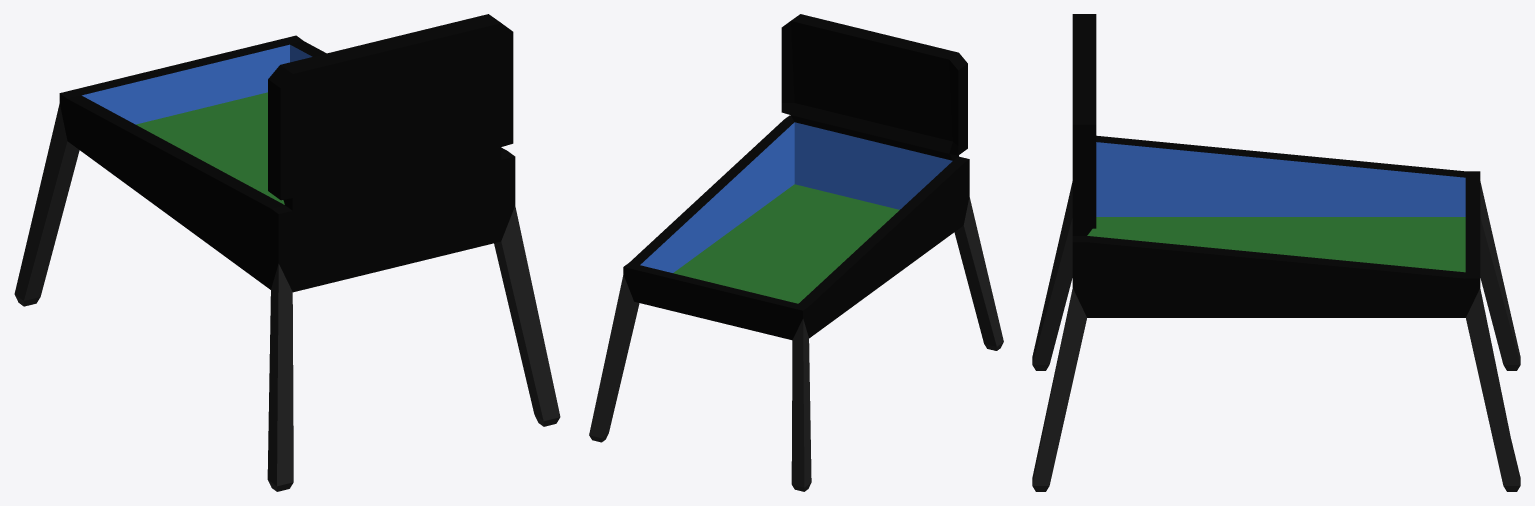
File: Pinball Machine.fbx
3 renders of one model, left to right at view 1: azimuth 30°, elevation 25°; view 2: azimuth 150°, elevation 25°; view 3: azimuth 270°, elevation 25°, orthographic. The views are drawn at different scales.
Parts seen in each view (by area): view 1: Cube; view 2: Cube; view 3: Cube.
Boxes of the visible parts, bbox=[...] form: Cube: bbox=[14, 14, 560, 491]; Cube: bbox=[589, 14, 1003, 491]; Cube: bbox=[1032, 14, 1520, 491].
Bounding box in the file's own units: 5197 × 6915 × 8333.
